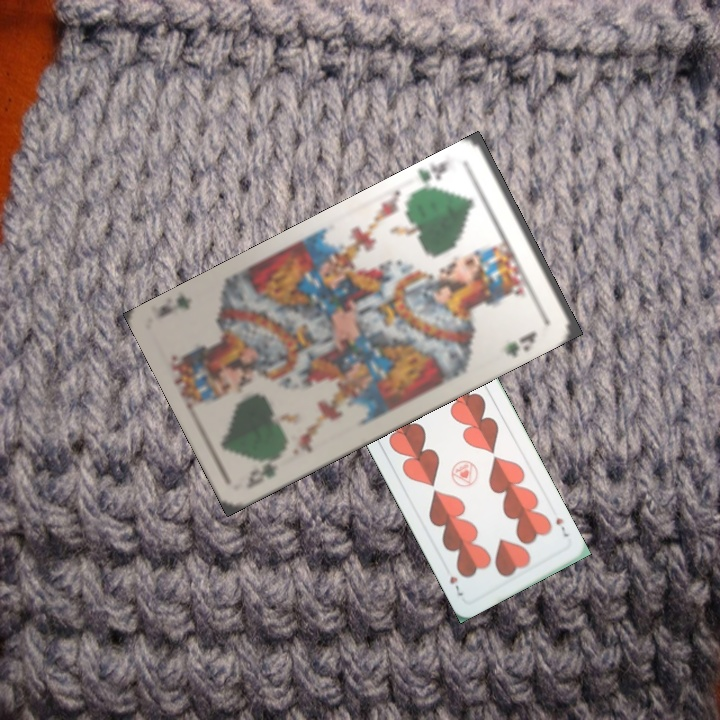GK: (413, 157, 452, 194), (241, 458, 281, 491)
H7: (552, 514, 571, 539)
